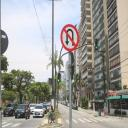NoVirarU: (59, 22, 81, 51)
